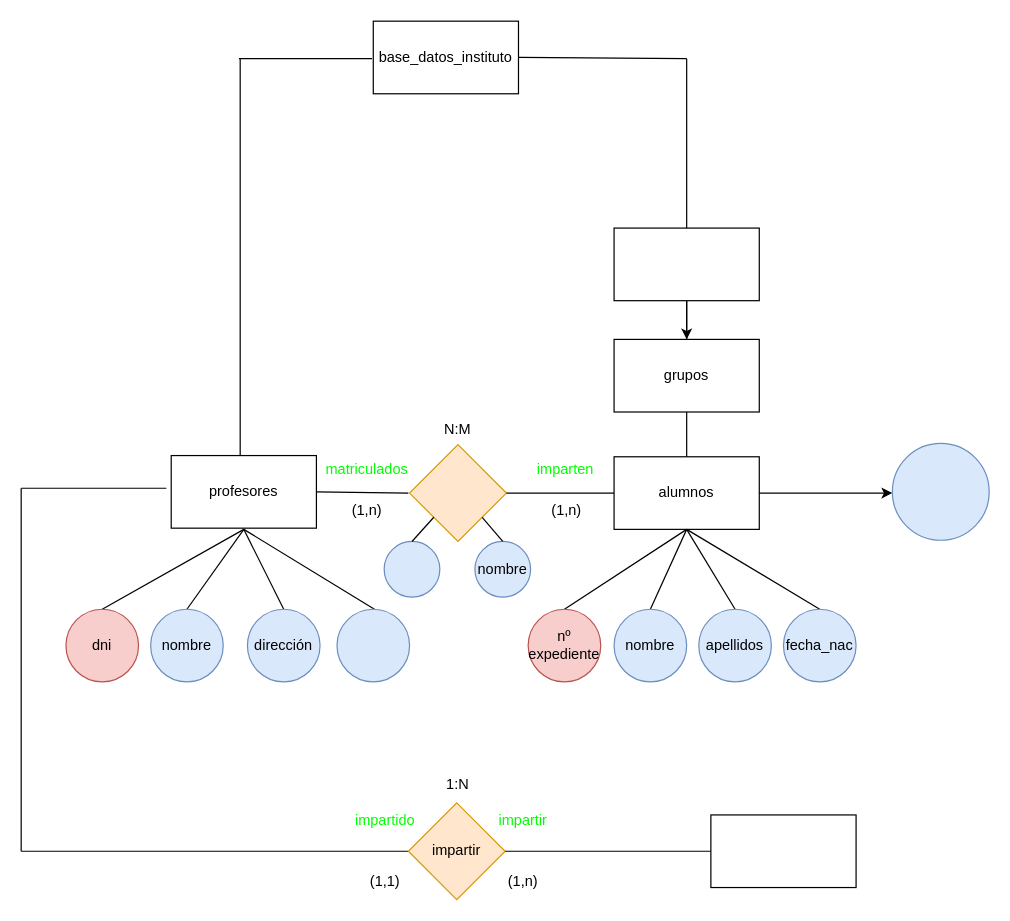
Image size: 1010x921. Some labels were removed from this diagram. Here are the shapes that lost their labels. From the top down, the centre of each, then its label:
At (x=686, y=264): "cursos".
At (x=457, y=492): "modulos".
At (x=940, y=491): "un_ delegado".
At (x=411, y=568): "cod".
At (x=373, y=645): "telefono".
At (x=783, y=851): "módulos".
